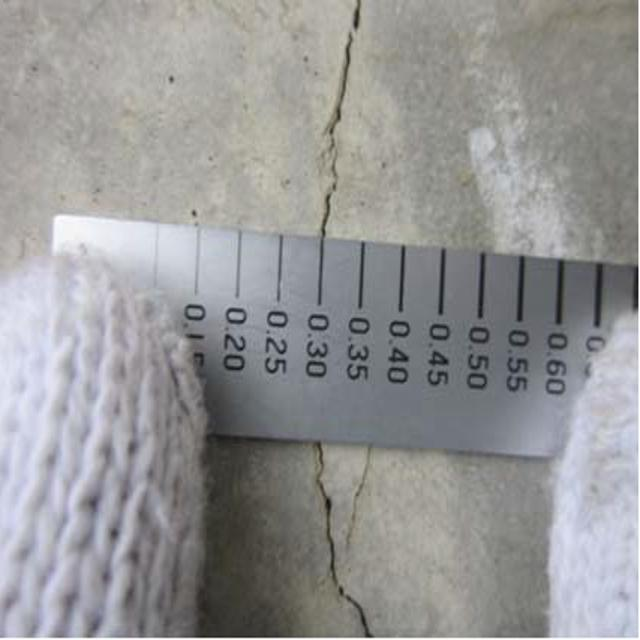crack: (290, 443, 403, 640), (306, 3, 381, 234)
